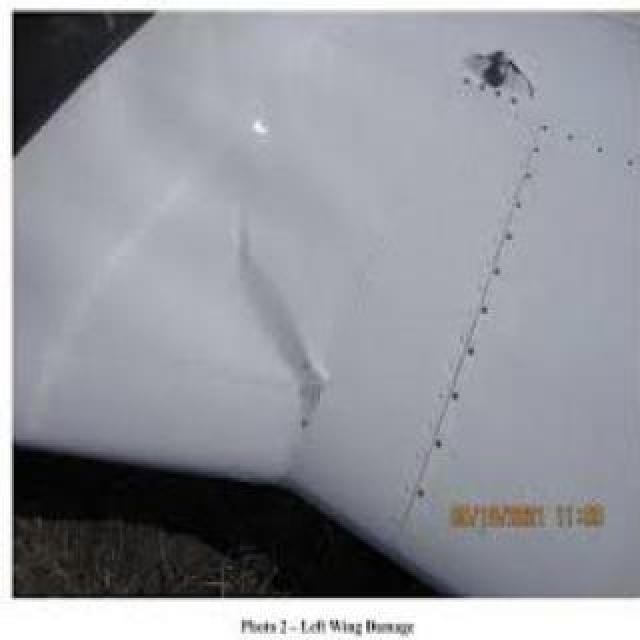dent: (236, 210, 330, 430)
